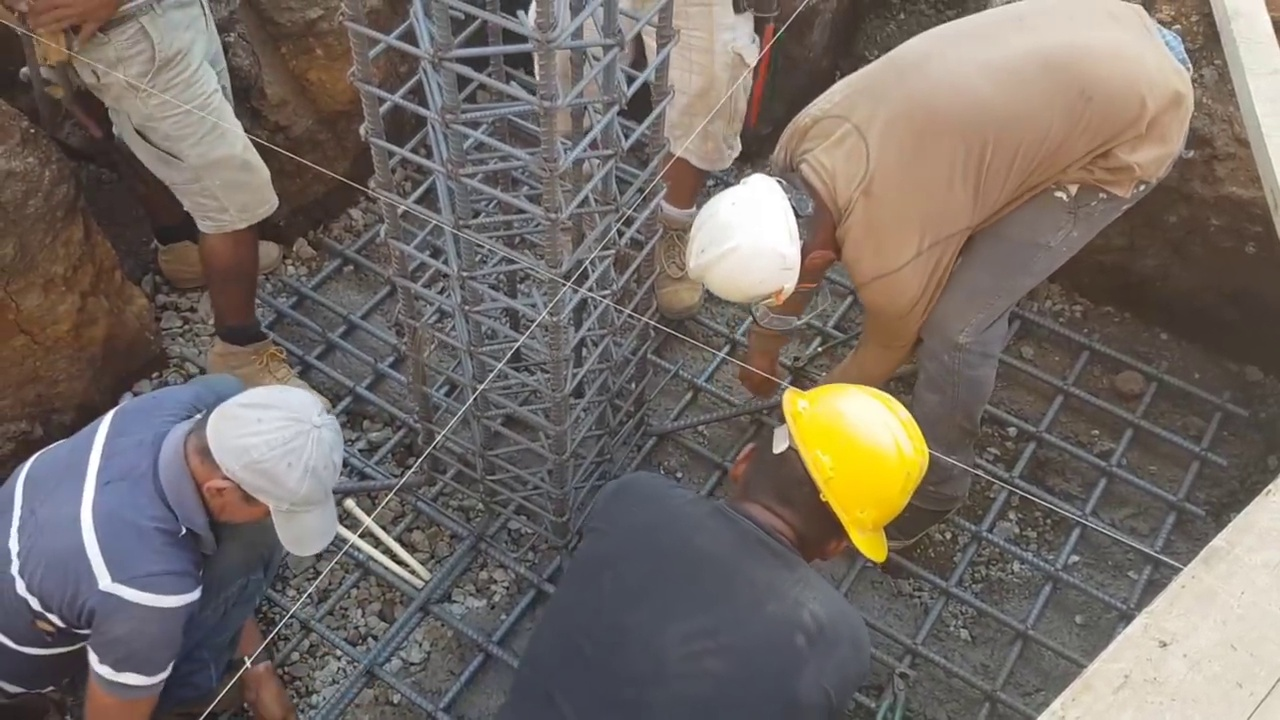helmet: (758, 367, 921, 562), (685, 170, 808, 311)
helmet-off: (181, 383, 343, 558)
helmet-on: (726, 387, 930, 565)
person: (744, 0, 1240, 532), (0, 14, 297, 579), (0, 354, 348, 719), (570, 419, 932, 695), (356, 10, 454, 222)
